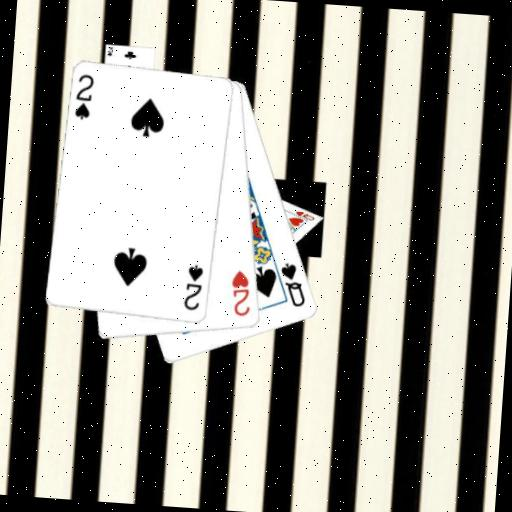2H: (227, 267, 255, 319)
2S: (180, 261, 205, 313), (71, 71, 96, 123)
QS: (275, 259, 310, 310)
